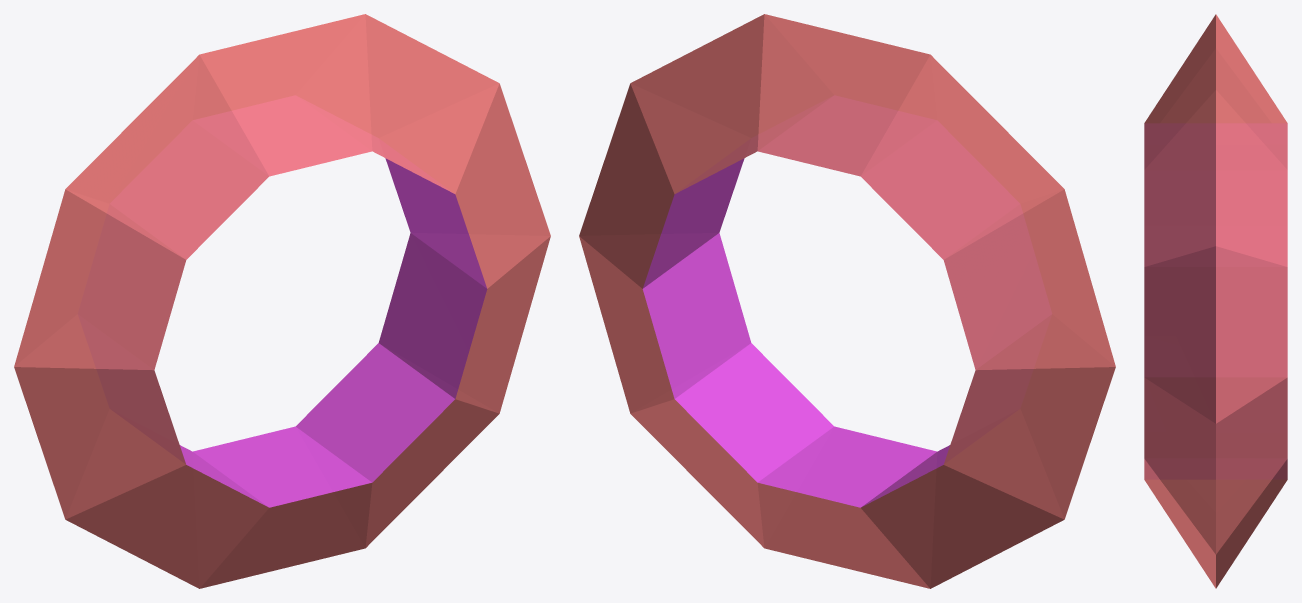
File: Regular10TetragonalToroid.obj
3 renders of one model, left to right at view 1: azimuth 30°, elevation 25°; view 2: azimuth 150°, elevation 25°; view 3: azimuth 270°, elevation 25°, orthographic. The views are drawn at different scales.
Size of the model in its own units: 2.83 by 2.69 by 0.7.
